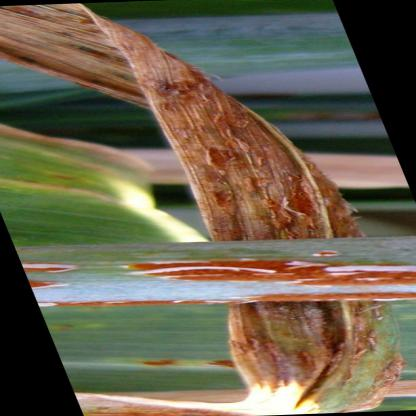wheat Stem Rust: (26, 250, 414, 299), (260, 304, 382, 392), (201, 179, 336, 234), (176, 114, 274, 164), (13, 3, 98, 52), (128, 59, 195, 89)
